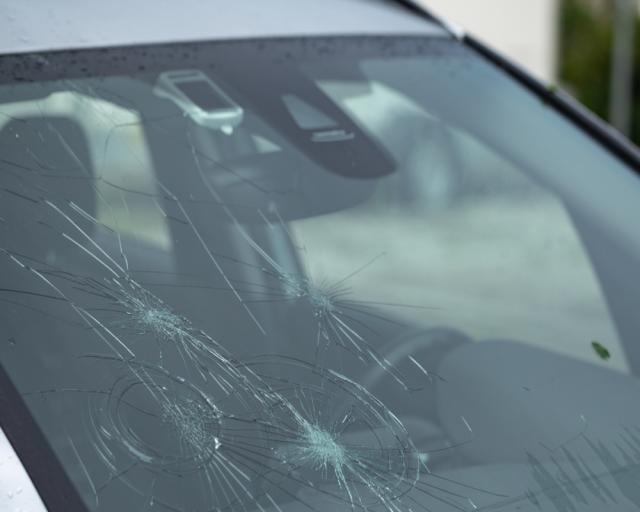glass shatter: (0, 36, 640, 512)
